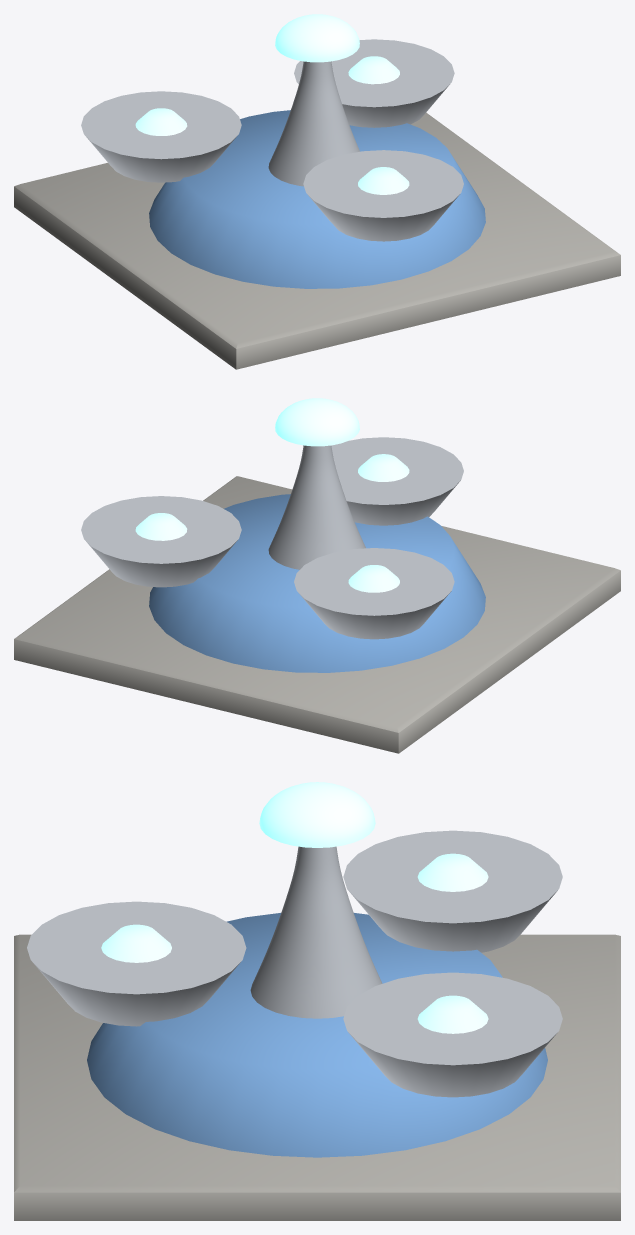
Rendered from gaweat.glb.
3 renders of one model, top to bottom at view 1: azimuth 30°, elevation 25°; view 2: azimuth 150°, elevation 25°; view 3: azimuth 270°, elevation 25°, orthographic. The views are drawn at different scales.
Visible parts, largest first — view 1: Hull; view 2: Hull; view 3: Hull.
Boxes of the visible parts, bbox=[...] form: Hull: bbox=[14, 14, 620, 369]; Hull: bbox=[14, 398, 620, 753]; Hull: bbox=[14, 782, 620, 1220].
Size of the model in its own units: 5.08 by 2.79 by 5.08.
